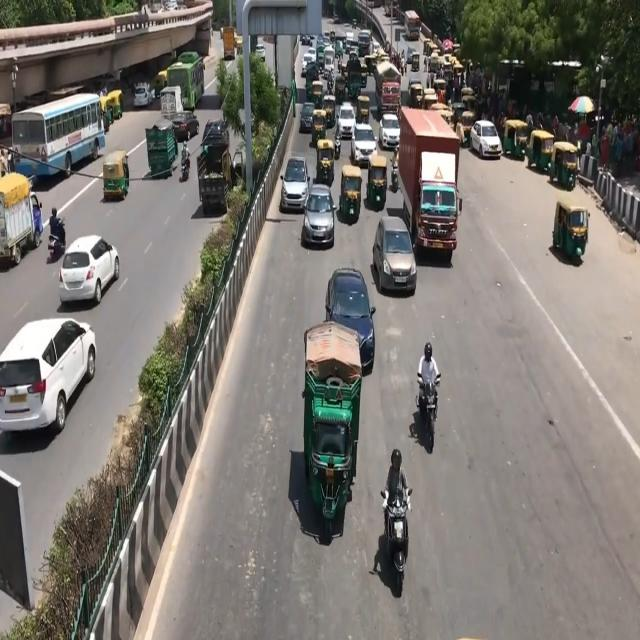Bike: (414, 347, 454, 457)
Scooty: (383, 448, 414, 608)
Truck: (411, 105, 472, 260)
